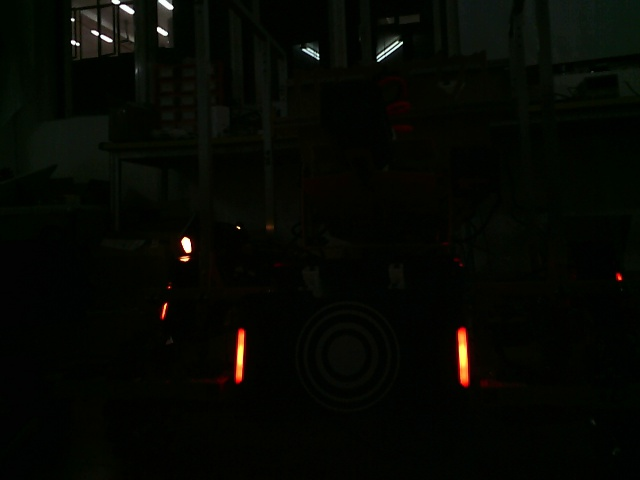lamp: (452, 326, 473, 389), (230, 325, 248, 386)
